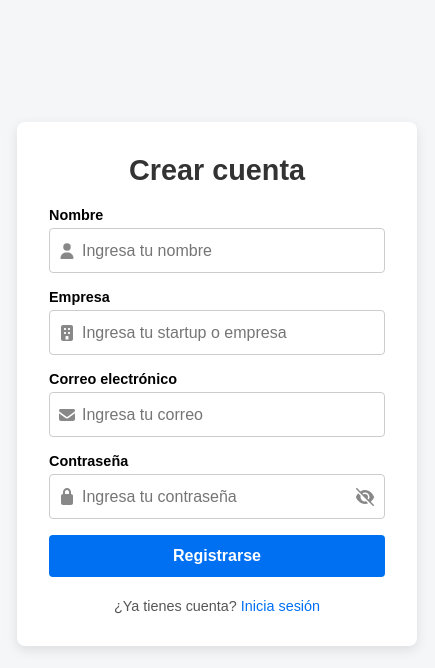
Test: RegisterPage › shows error notification if api fails
Type "Test User" into the field with test id "input-name". click: (217, 250)
box: [49, 228, 385, 273]
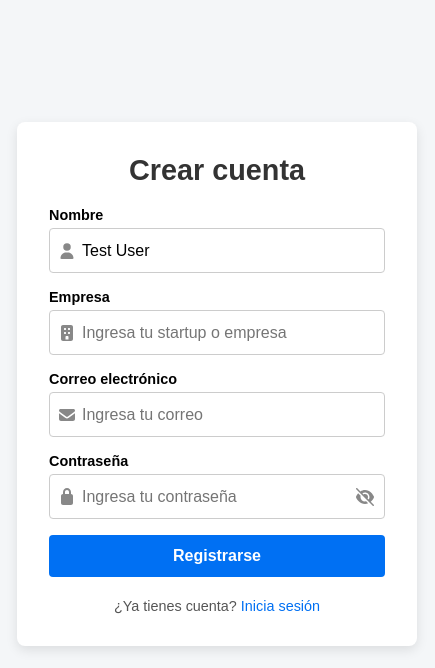
Type "Test Tenant" into the field with test id "input-tenant". click: (217, 332)
box: [49, 310, 385, 355]
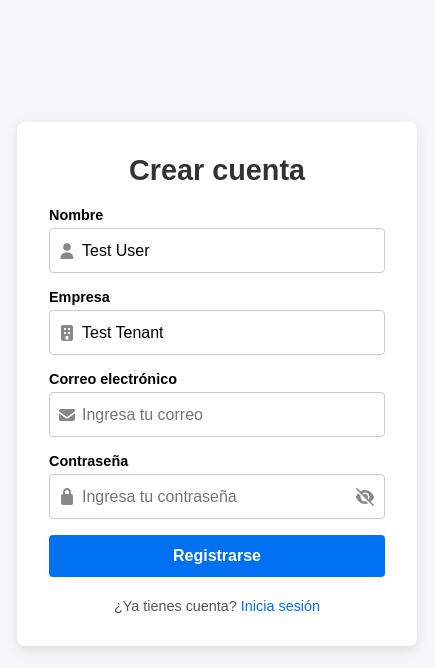
Type "user@example.com" into the field with test id "input-email". click: (217, 414)
box: [49, 392, 385, 437]
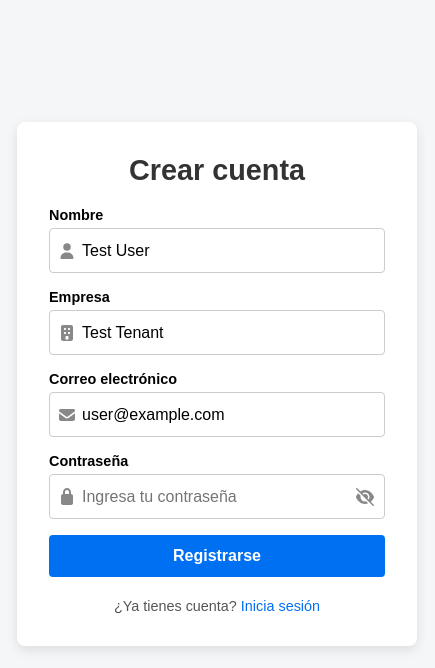
Type "123456" into the password field with test id "input-password". click: (217, 496)
box: [49, 474, 385, 519]
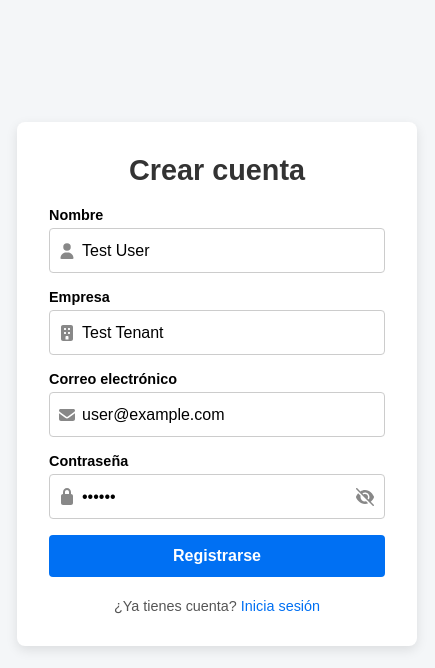
Click the button with test id "btn-register". click: click(217, 556)
box: [49, 535, 385, 577]
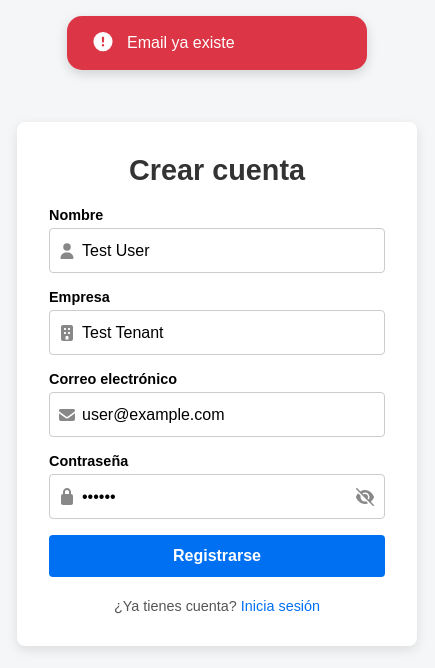
Expected: the text "Email ya existe" is shown, [127, 34, 235, 51]
